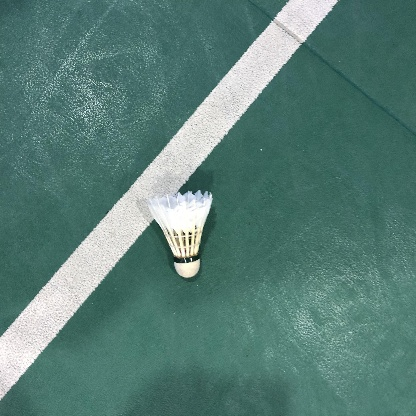ball_single: (147, 190, 213, 277)
